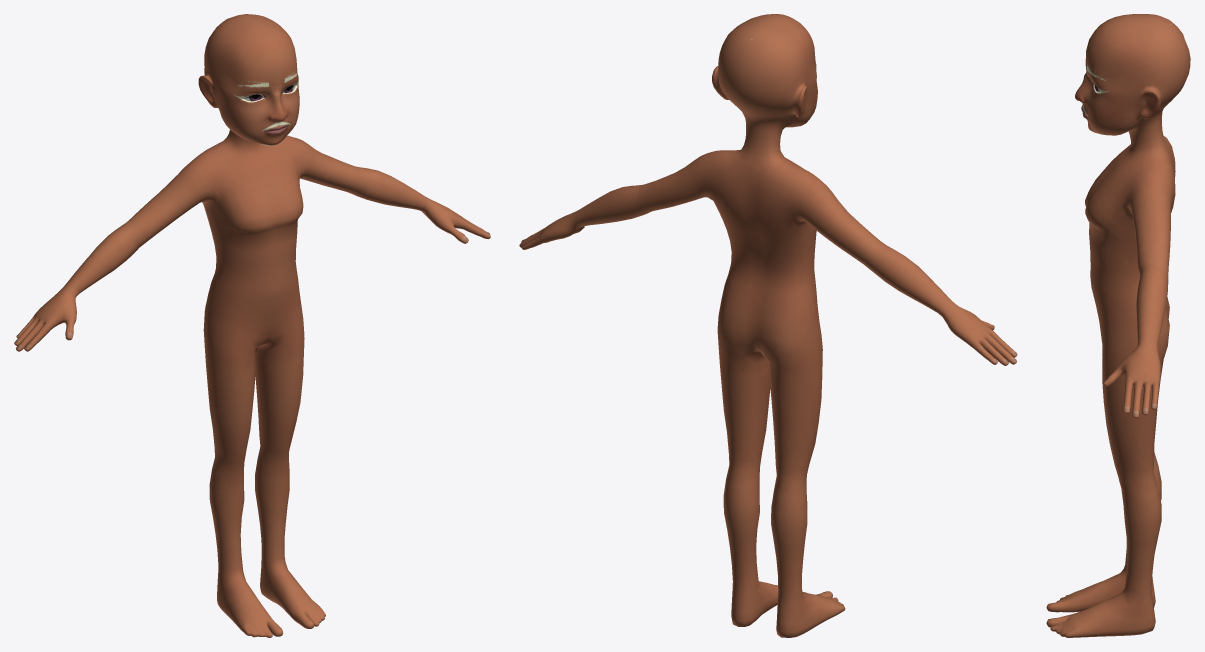
File: frame_0012.glb
The picture shows the model from 3 angles, left to right: view 1: azimuth 30°, elevation 25°; view 2: azimuth 150°, elevation 25°; view 3: azimuth 270°, elevation 25°; orthographic projection. The views are drawn at different scales.
Visible parts, largest first — view 1: frame_0012_head_geo; view 2: frame_0012_head_geo; view 3: frame_0012_head_geo.
Boxes of the visible parts, x1=… form: frame_0012_head_geo: x1=14, y1=14, x2=490, y2=637; frame_0012_head_geo: x1=519, y1=14, x2=1017, y2=637; frame_0012_head_geo: x1=1046, y1=14, x2=1190, y2=637.
Size of the model in its own units: 1.28 by 1.5 by 0.3253.
Materials: 3 (3 with a texture image).
